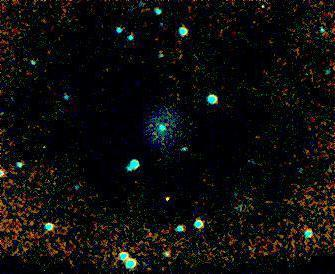star: (150, 176, 180, 206)
